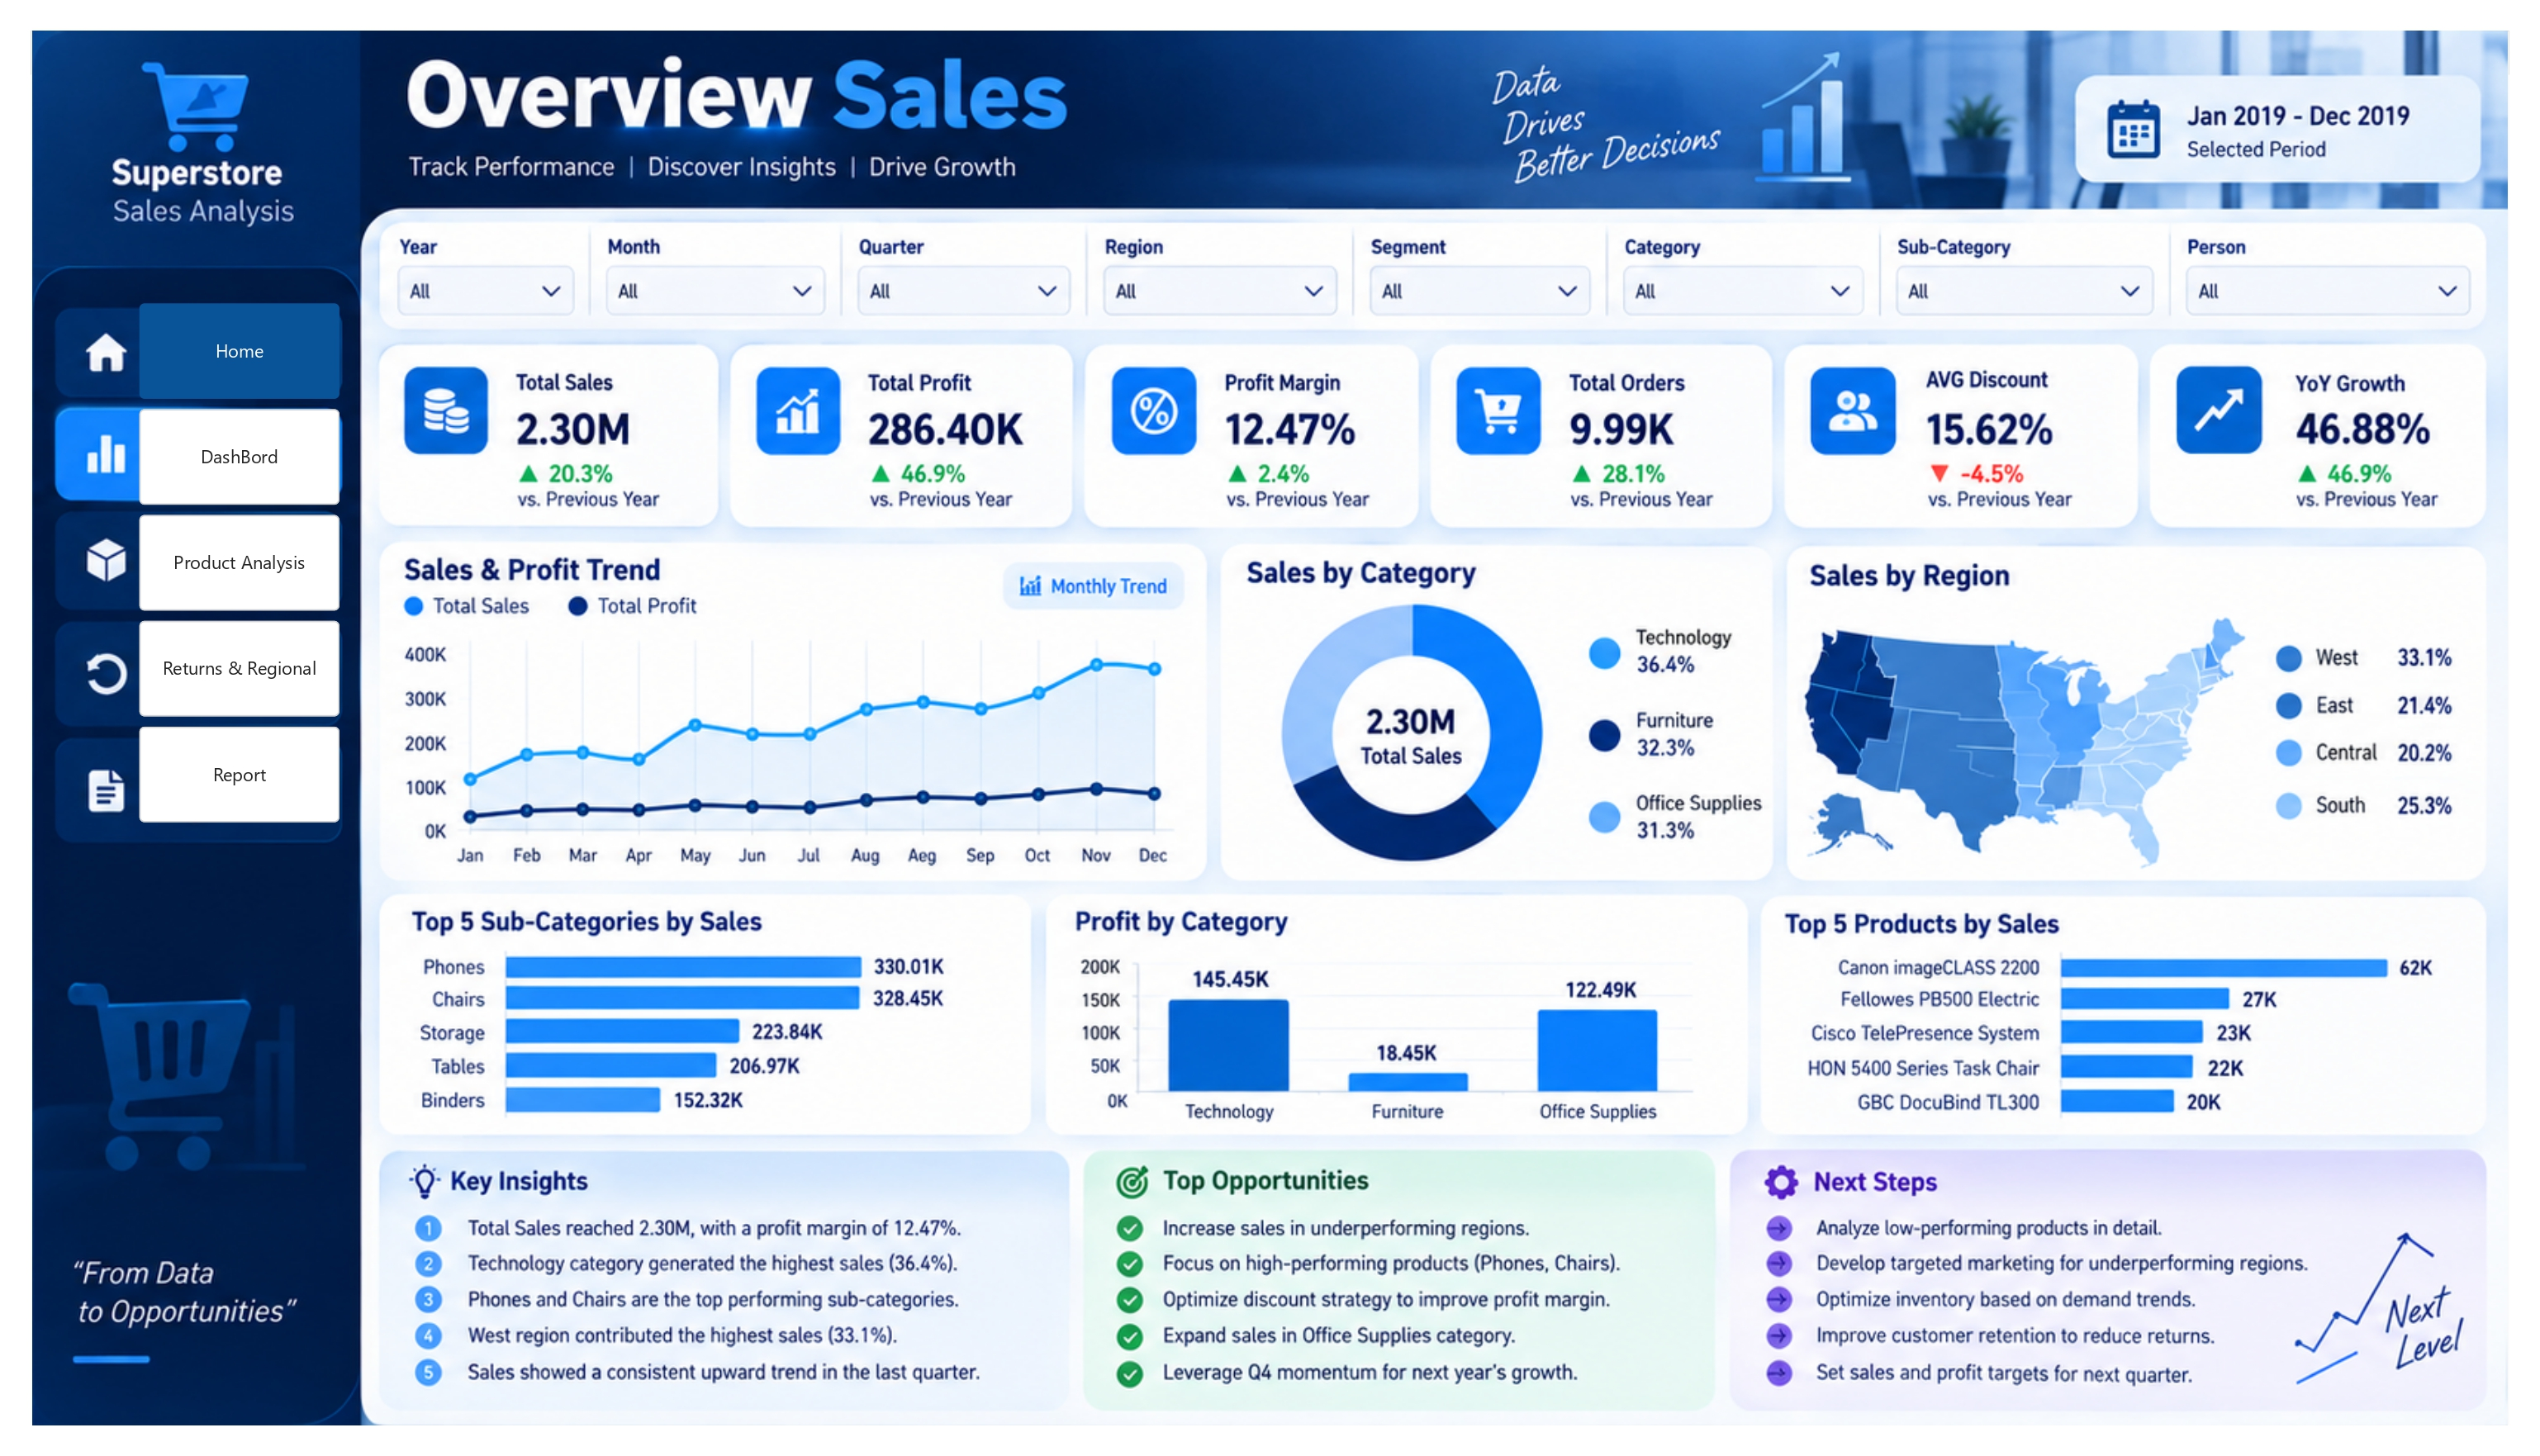

What the dashboard file says about the page in this screenshot:
{"tool":"powerbi","page":{"name":"DashBord","canvas":[1920,1080],"ordinal":1},"visuals":[{"type":"shape","box":[0,0,1920,150],"z":1000},{"type":"textbox","box":[0,28.3,1920,121.5],"z":2000},{"type":"shape","box":[0,168.1,1920,90.4],"z":3000},{"type":"slicer","fields":{"Values":["DateTable.Year"]},"box":[19.6,167.9,226.6,81.5],"z":4000},{"type":"slicer","fields":{"Values":["DateTable.Month Number"]},"box":[246.1,167.9,326,105.9],"z":5000},{"type":"slicer","fields":{"Values":["DateTable.Quarter"]},"box":[572.1,167.9,308,84.8],"z":6000},{"type":"slicer","fields":{"Values":["Orders.Region"]},"box":[880.1,167.9,246.1,86.4],"z":7000},{"type":"slicer","fields":{"Values":["People.Person"]},"box":[1126.2,167.9,187.4,84.8],"z":8000},{"type":"slicer","fields":{"Values":["Orders.Segment"]},"box":[1313.7,167.9,301.5,89.6],"z":9000},{"type":"slicer","fields":{"Values":["Orders.Sub-Category"]},"box":[1615.2,167.9,260.8,89.6],"z":10000},{"type":"cardVisual","fields":{"Data":["DAX Measures.Total Profit","DAX Measures.Total Sales","DAX Measures.Profit Margin %","DAX Measures.YoY Growth","DAX Measures.AVG DIS"]},"box":[0,248.7,1920,150],"z":11000},{"type":"lineChart","title":"Monthly Sales Trend","fields":{"Category":["DateTable.Month Name"],"Y":["DAX Measures.Total Sales"]},"box":[745.4,398.8,1174.6,324.8],"z":12000},{"type":"barChart","title":"Sales by Category","fields":{"Y":["DAX Measures.Total Sales"],"Category":["Orders.Sub-Category"]},"box":[246.5,398.8,498.9,681.6],"z":13000},{"type":"clusteredBarChart","title":" Sales by Region","fields":{"Y":["DAX Measures.Total Sales"],"Category":["Orders.Region"]},"box":[746,724,1174,356],"z":14000},{"type":"shape","box":[0,399,247,681],"z":14500},{"type":"pageNavigator","box":[39.2,451,166.8,219],"z":15000},{"type":"image","box":[20,284.6,82.5,77.1],"z":15001},{"type":"image","box":[403,284.6,93.1,77.1],"z":15002},{"type":"image","box":[787.4,323.2,58.5,63.8],"z":15003},{"type":"image","box":[1174.4,293.9,63.8,67.8],"z":15004},{"type":"image","box":[1578.8,284.6,70.5,78.5],"z":15005}]}

Visuals, with their boxes on the page's 1920x1080 design canvas (x1, y1, x2, y2). These are canvas units, not pixel positions in the 2540x1456 screenshot, which may show the page scaled, cropped or inside an application window:
shape: region(0, 0, 1920, 150)
textbox: region(0, 28, 1920, 150)
shape: region(0, 168, 1920, 258)
slicer - DateTable.Year: region(20, 168, 246, 249)
slicer - DateTable.Month Number: region(246, 168, 572, 274)
slicer - DateTable.Quarter: region(572, 168, 880, 253)
slicer - Orders.Region: region(880, 168, 1126, 254)
slicer - People.Person: region(1126, 168, 1314, 253)
slicer - Orders.Segment: region(1314, 168, 1615, 258)
slicer - Orders.Sub-Category: region(1615, 168, 1876, 258)
cardVisual - DAX Measures.Total Profit x DAX Measures.Total Sales: region(0, 249, 1920, 399)
"Monthly Sales Trend" lineChart: region(745, 399, 1920, 724)
"Sales by Category" barChart: region(246, 399, 745, 1080)
" Sales by Region" clusteredBarChart: region(746, 724, 1920, 1080)
shape: region(0, 399, 247, 1080)
pageNavigator: region(39, 451, 206, 670)
image: region(20, 285, 102, 362)
image: region(403, 285, 496, 362)
image: region(787, 323, 846, 387)
image: region(1174, 294, 1238, 362)
image: region(1579, 285, 1649, 363)
